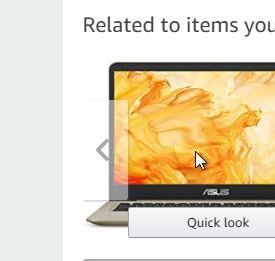cursor: (193, 149, 209, 171)
